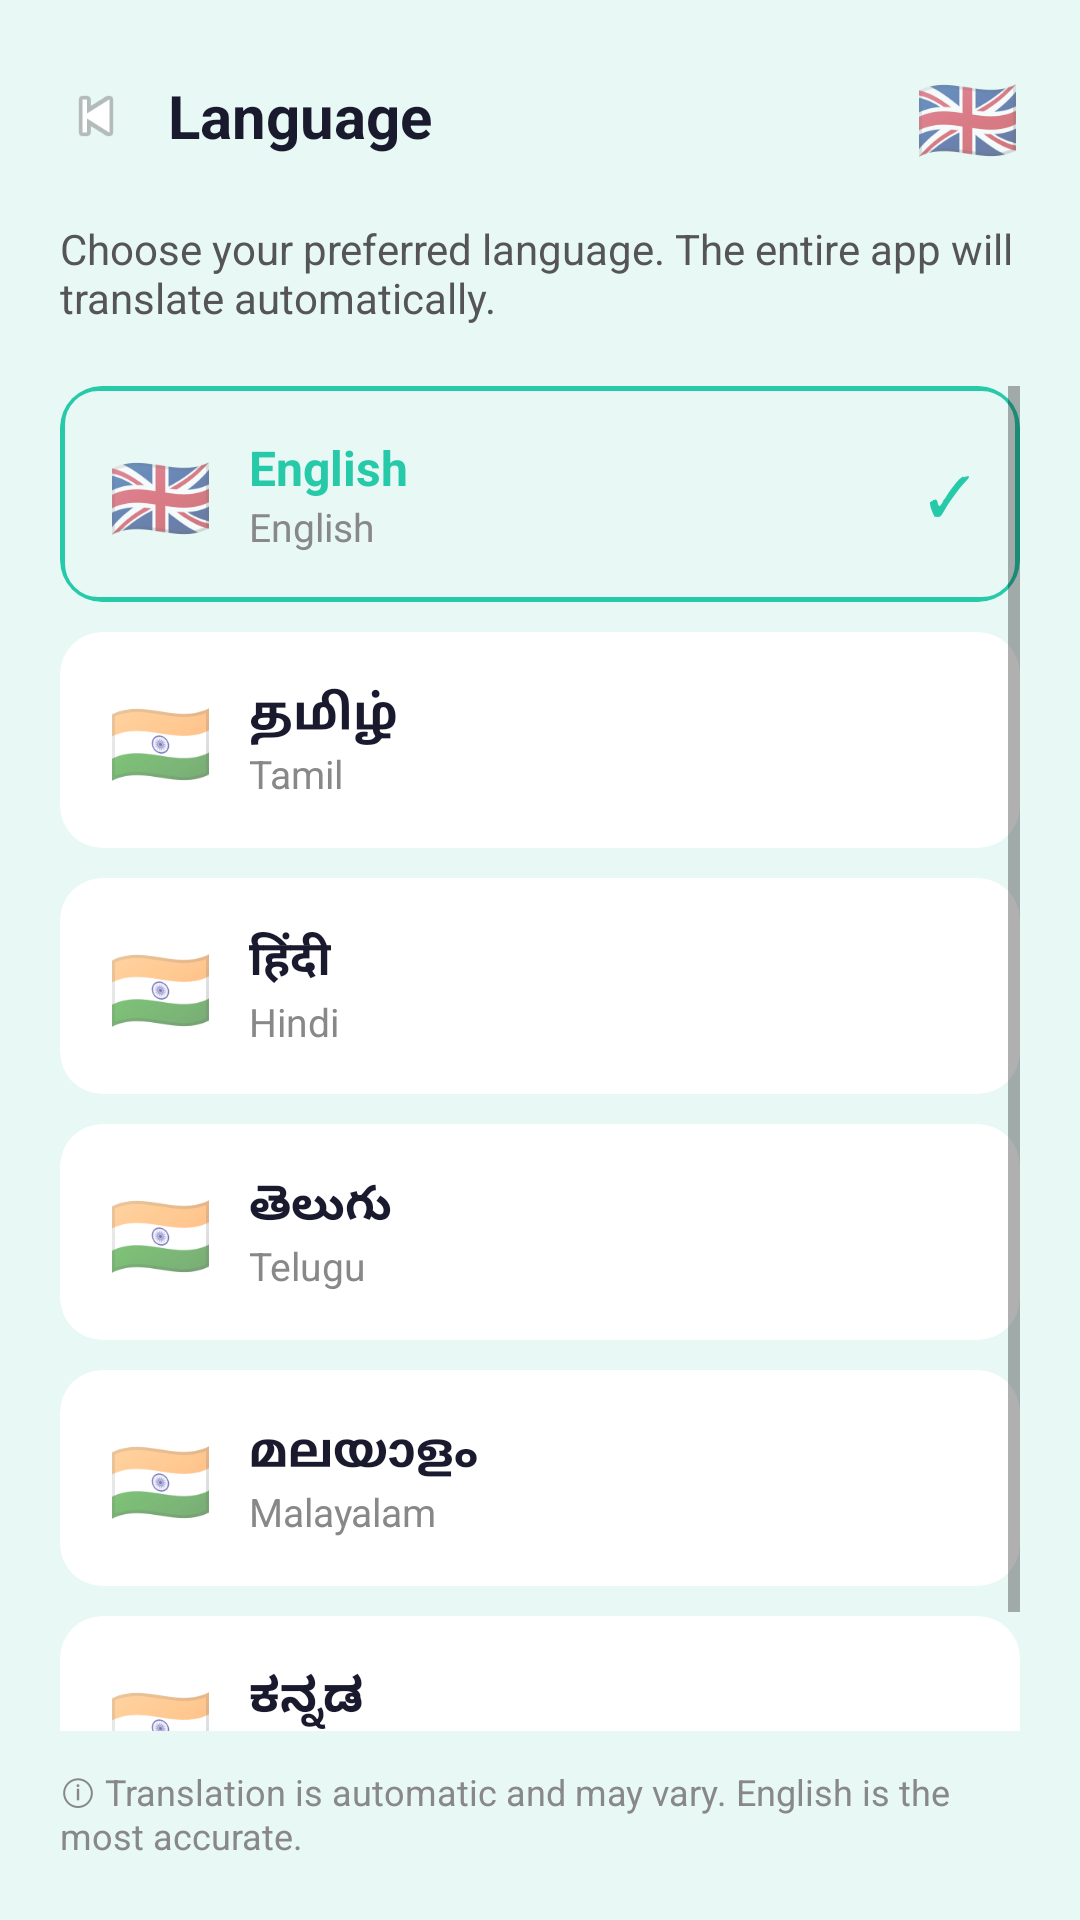

Icon click points for this 1080x1920 phone screenshot, format (x=x, y=y):
previous: (x=96, y=116)
